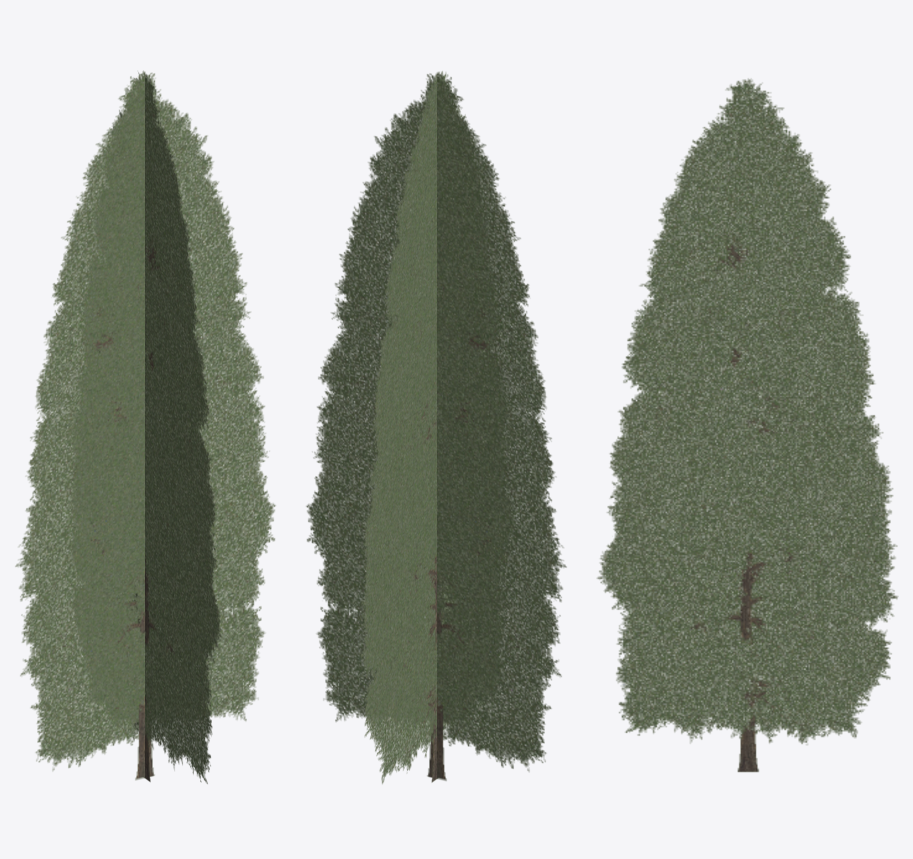
File: CalocedrusDecurrens.glb
3 renders of one model, left to right at view 1: azimuth 30°, elevation 25°; view 2: azimuth 150°, elevation 25°; view 3: azimuth 270°, elevation 25°, orthographic.
Visible parts, largest first — view 1: mesh__mat_billboard_4; view 2: mesh__mat_billboard_4; view 3: mesh__mat_billboard_4.
Boxes of the visible parts, <box> form: mesh__mat_billboard_4: <box>15,70,275,783</box>; mesh__mat_billboard_4: <box>306,71,566,783</box>; mesh__mat_billboard_4: <box>597,78,898,772</box>.
Bounding box in the file's own units: 8.13 × 21.2 × 8.26.
1 material, 1 textured.
